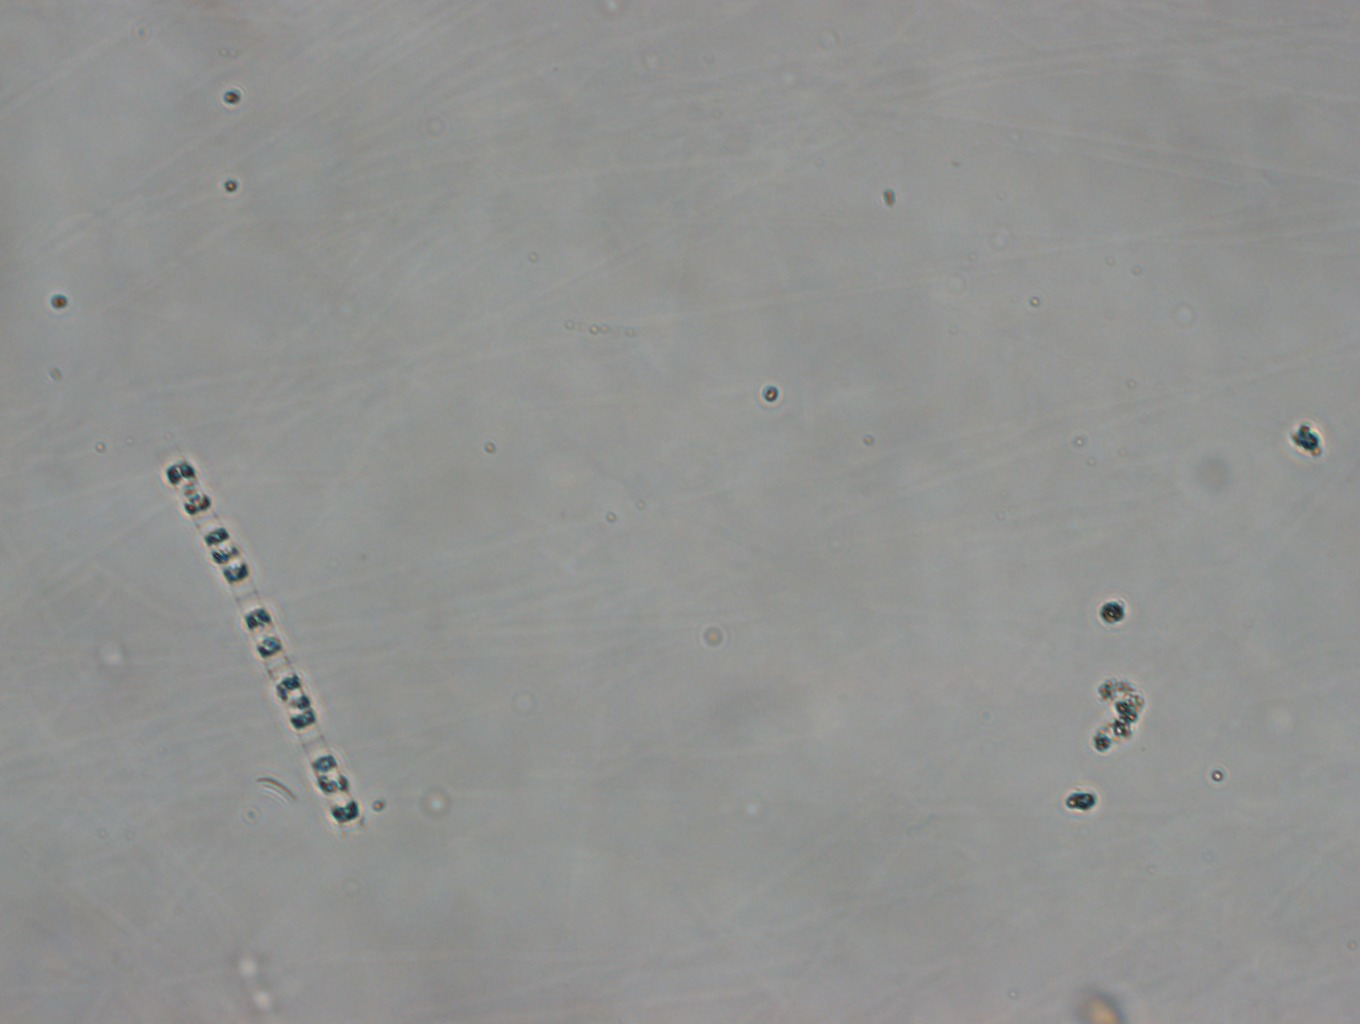skeletonema: (153, 453, 364, 837)
